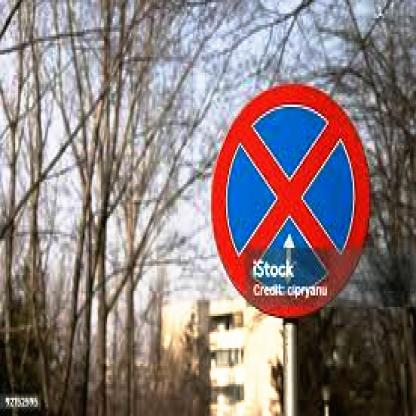No stopping: (214, 74, 368, 318)
